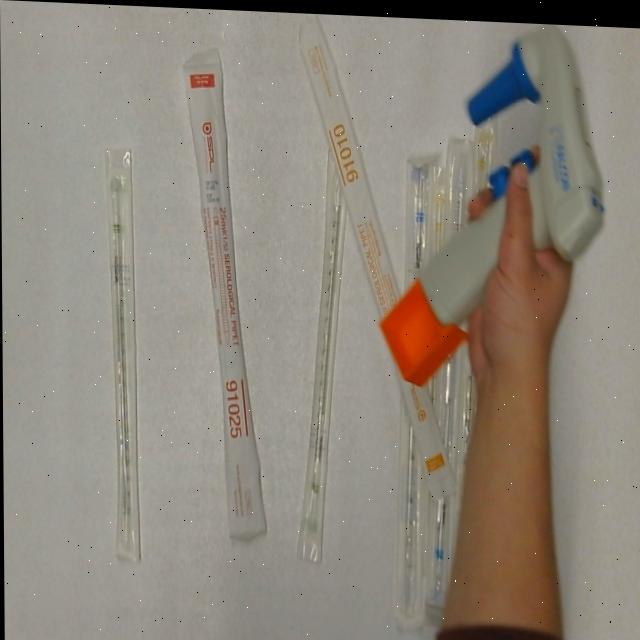Pipette Controller: (372, 13, 606, 394)
Serelogical Pipet 1 mL - Sealed: (449, 103, 508, 511), (418, 159, 457, 412)
Serelogical Pipet 10 mL - Sealed: (296, 11, 455, 494)
Serelogical Pipet 2 mL - Sealed: (290, 133, 354, 563), (105, 143, 143, 568)
Serelogical Pipet 25 mL - Sealed: (182, 42, 282, 543)
Serelogical Pipet 5 mL - Sealed: (422, 131, 478, 624), (387, 140, 443, 628)
